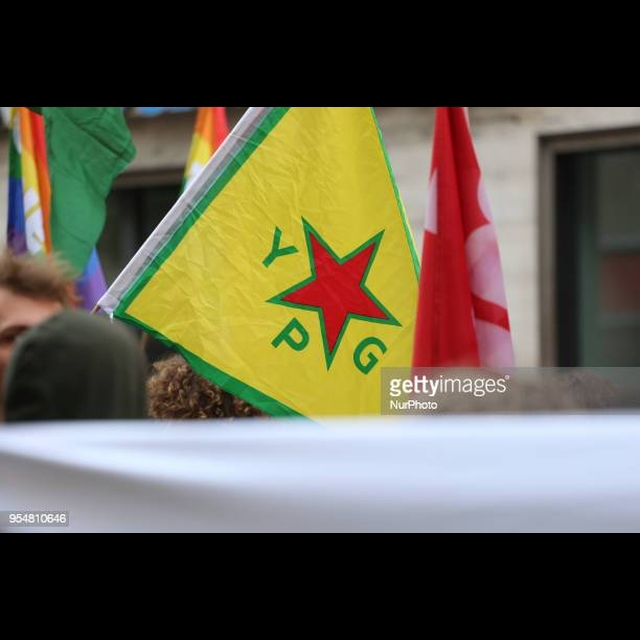YPG: (224, 189, 398, 380)
